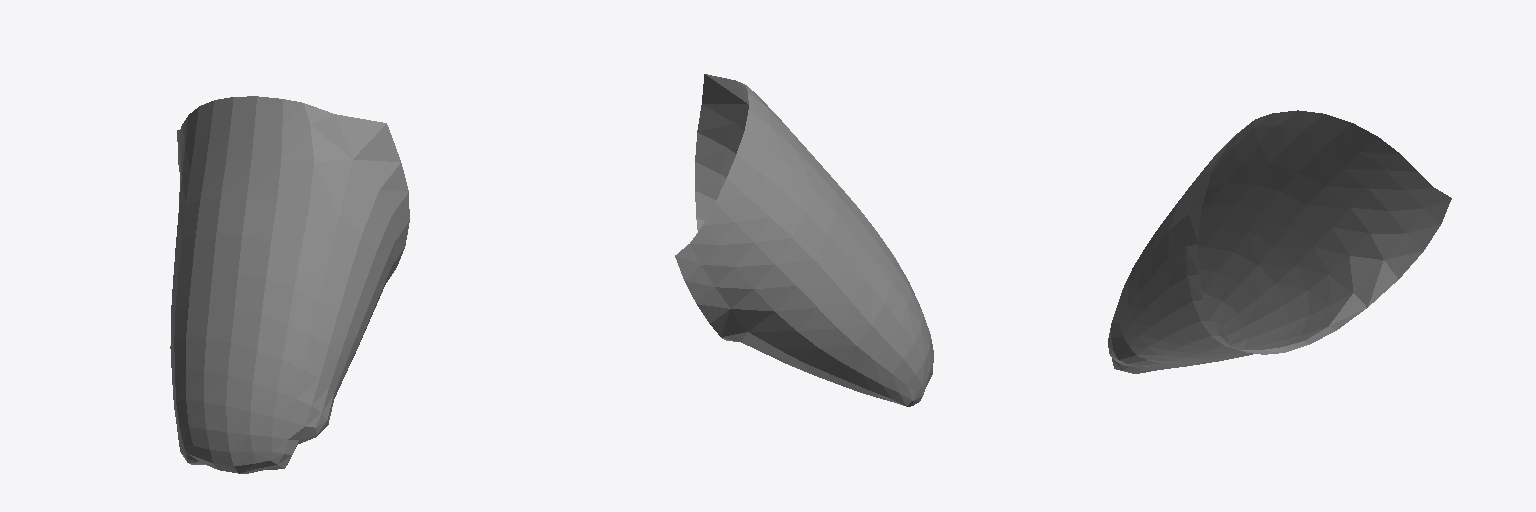
File: brazoDerPicachu.obj
3 renders of one model, left to right at view 1: azimuth 30°, elevation 25°; view 2: azimuth 150°, elevation 25°; view 3: azimuth 270°, elevation 25°, orthographic.
Parts seen in each view (by area): view 1: brazoDerPic; view 2: brazoDerPic; view 3: brazoDerPic.
Boxes of the visible parts, <box> form: brazoDerPic: <box>170,96,409,473</box>; brazoDerPic: <box>675,74,933,406</box>; brazoDerPic: <box>1108,110,1451,373</box>.
Bounding box in the file's own units: 0.7903 × 1.03 × 1.04.